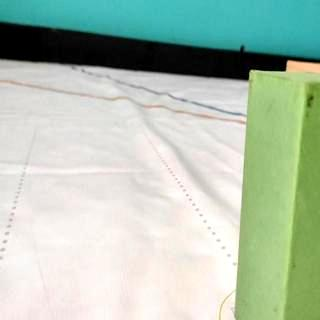greenbox: (234, 67, 320, 320)
